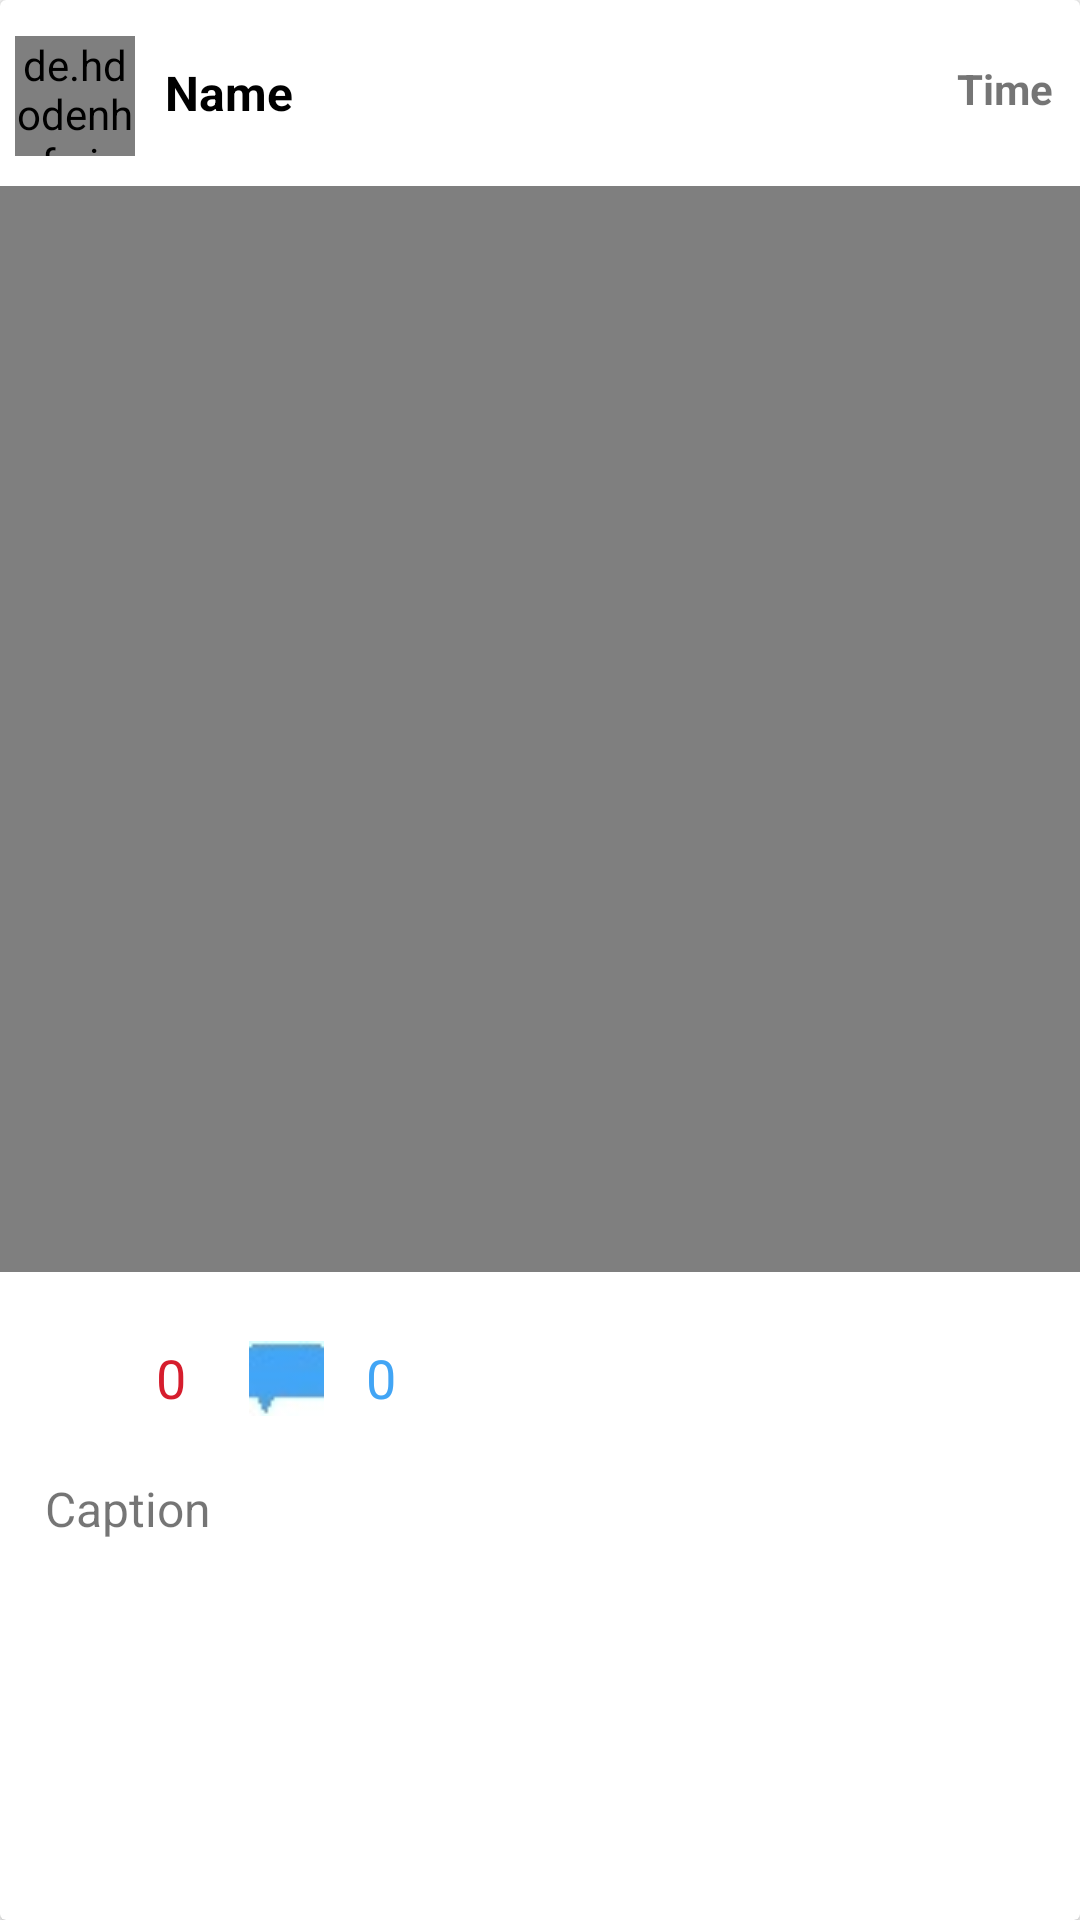

Screen size 1080px x 1920px. Icon name, then its center in pixels as (x,y):
commment: (286,1377)
